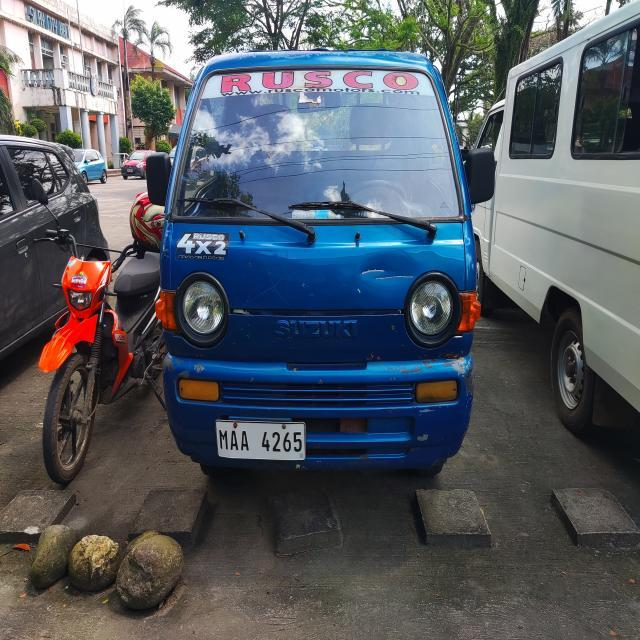LicensePlate: (208, 416, 312, 465)
